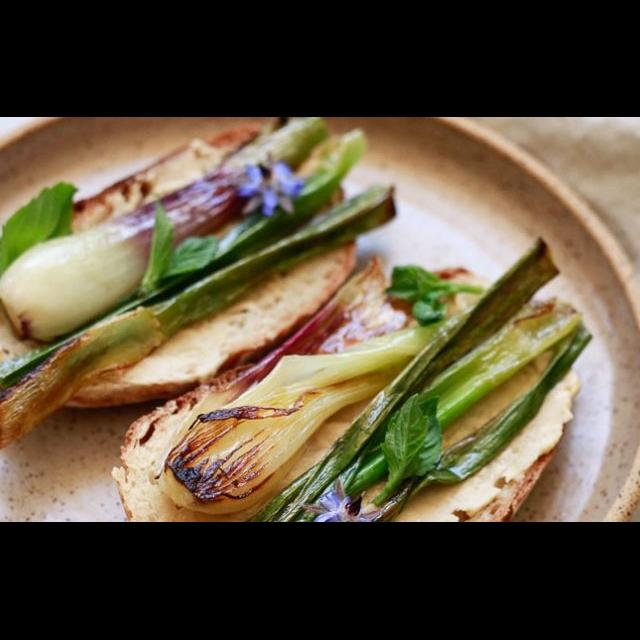green_onion: (0, 188, 396, 449), (274, 238, 559, 521), (160, 328, 438, 514), (411, 327, 590, 495), (399, 300, 580, 433), (0, 205, 155, 341), (161, 118, 327, 242), (342, 441, 388, 495)
